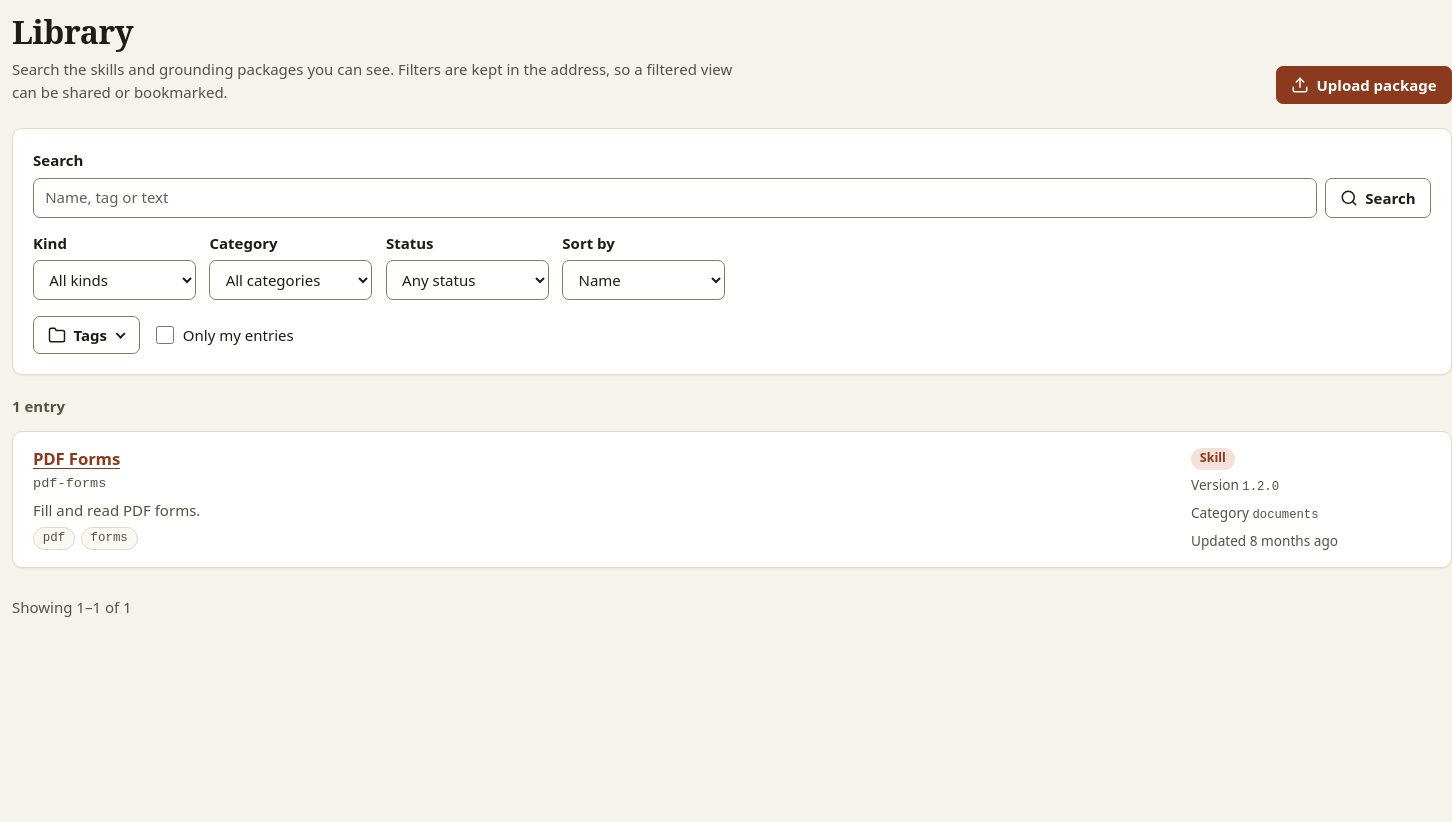
Scenario: Library: filters are kept in the address › only offers relevance sorting while searching
Expected: the link "PDF Forms" is shown, top-left (33, 447), bottom-right (120, 470)
Expected: the dropdown labelled "Sort by" shows "Name", top-left (562, 260), bottom-right (725, 300)
Type "x" into the search field labelled "Search" at x=675, y=198, box top-left (33, 178), bottom-right (1317, 218)
Then press Enter
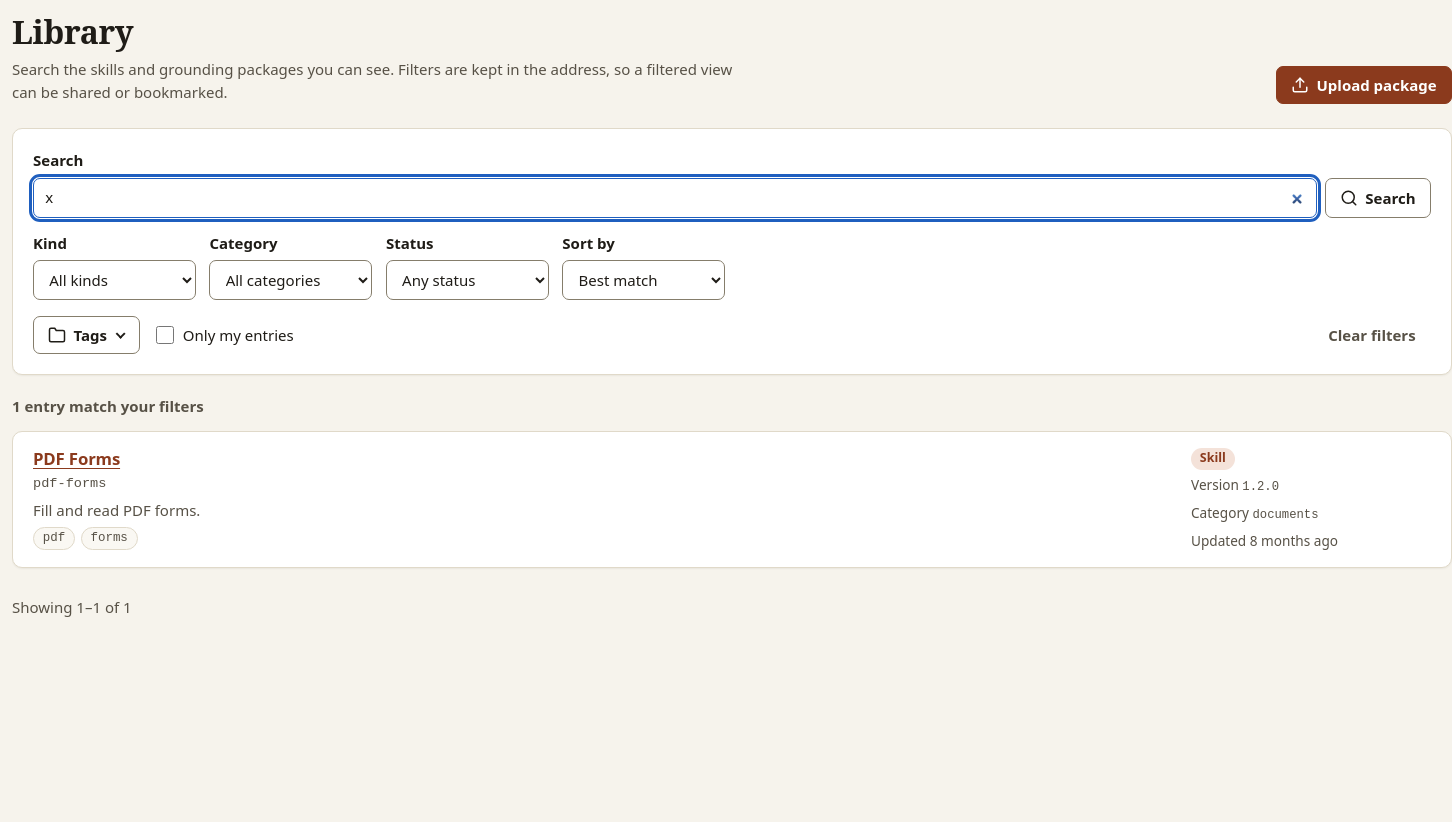
Now the dropdown labelled "Sort by" shows "Best match", box top-left (562, 260), bottom-right (725, 300)
